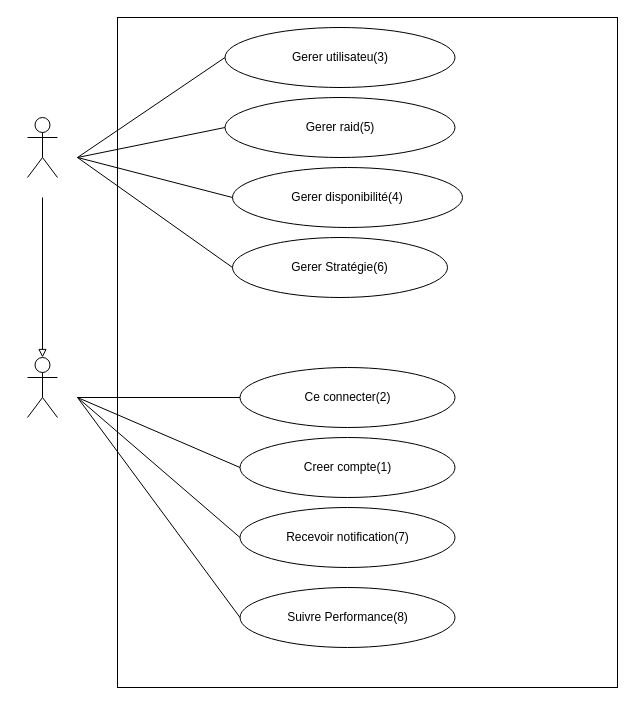
The diagram is 635 pixels wide and 705 high, and some of its shapes have lost their labels. Each missing label, with the box of its shape:
Admin: (26, 116, 58, 178)
Utilsateur: (26, 356, 58, 418)
